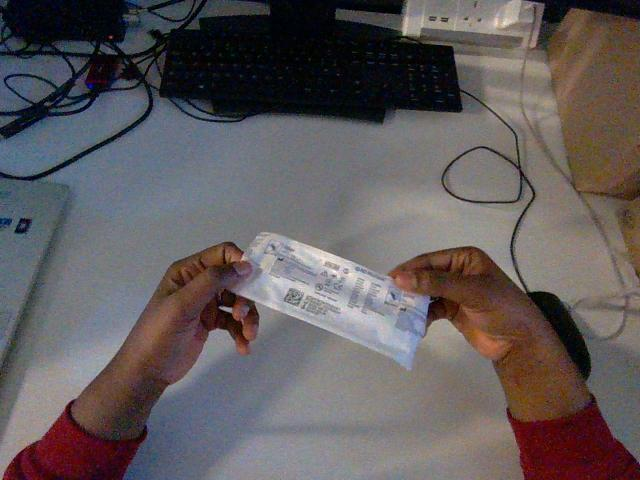syringe: (233, 232, 429, 368)
